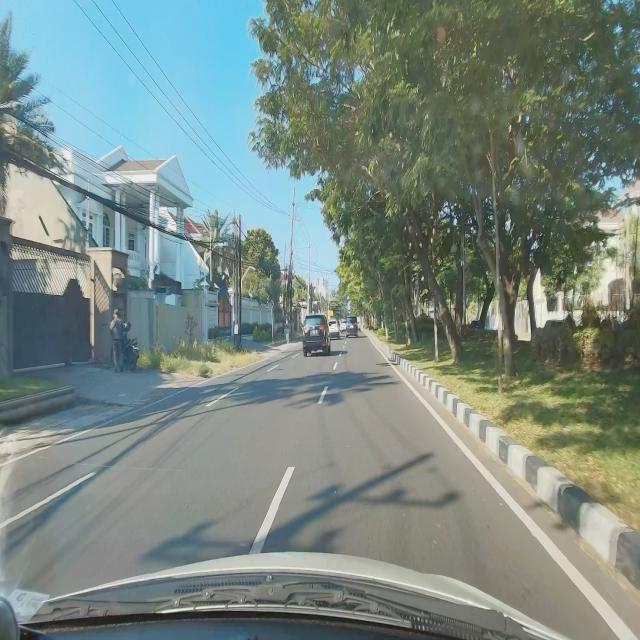car: (302, 312, 331, 357)
